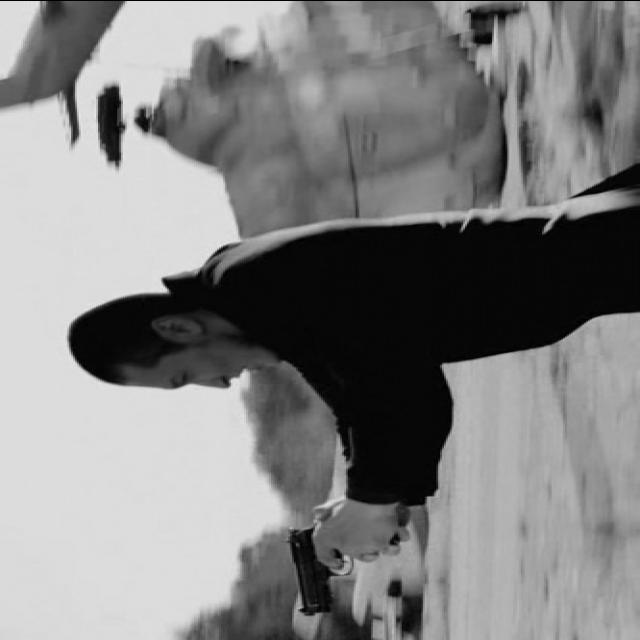weapons: (264, 512, 408, 624)
